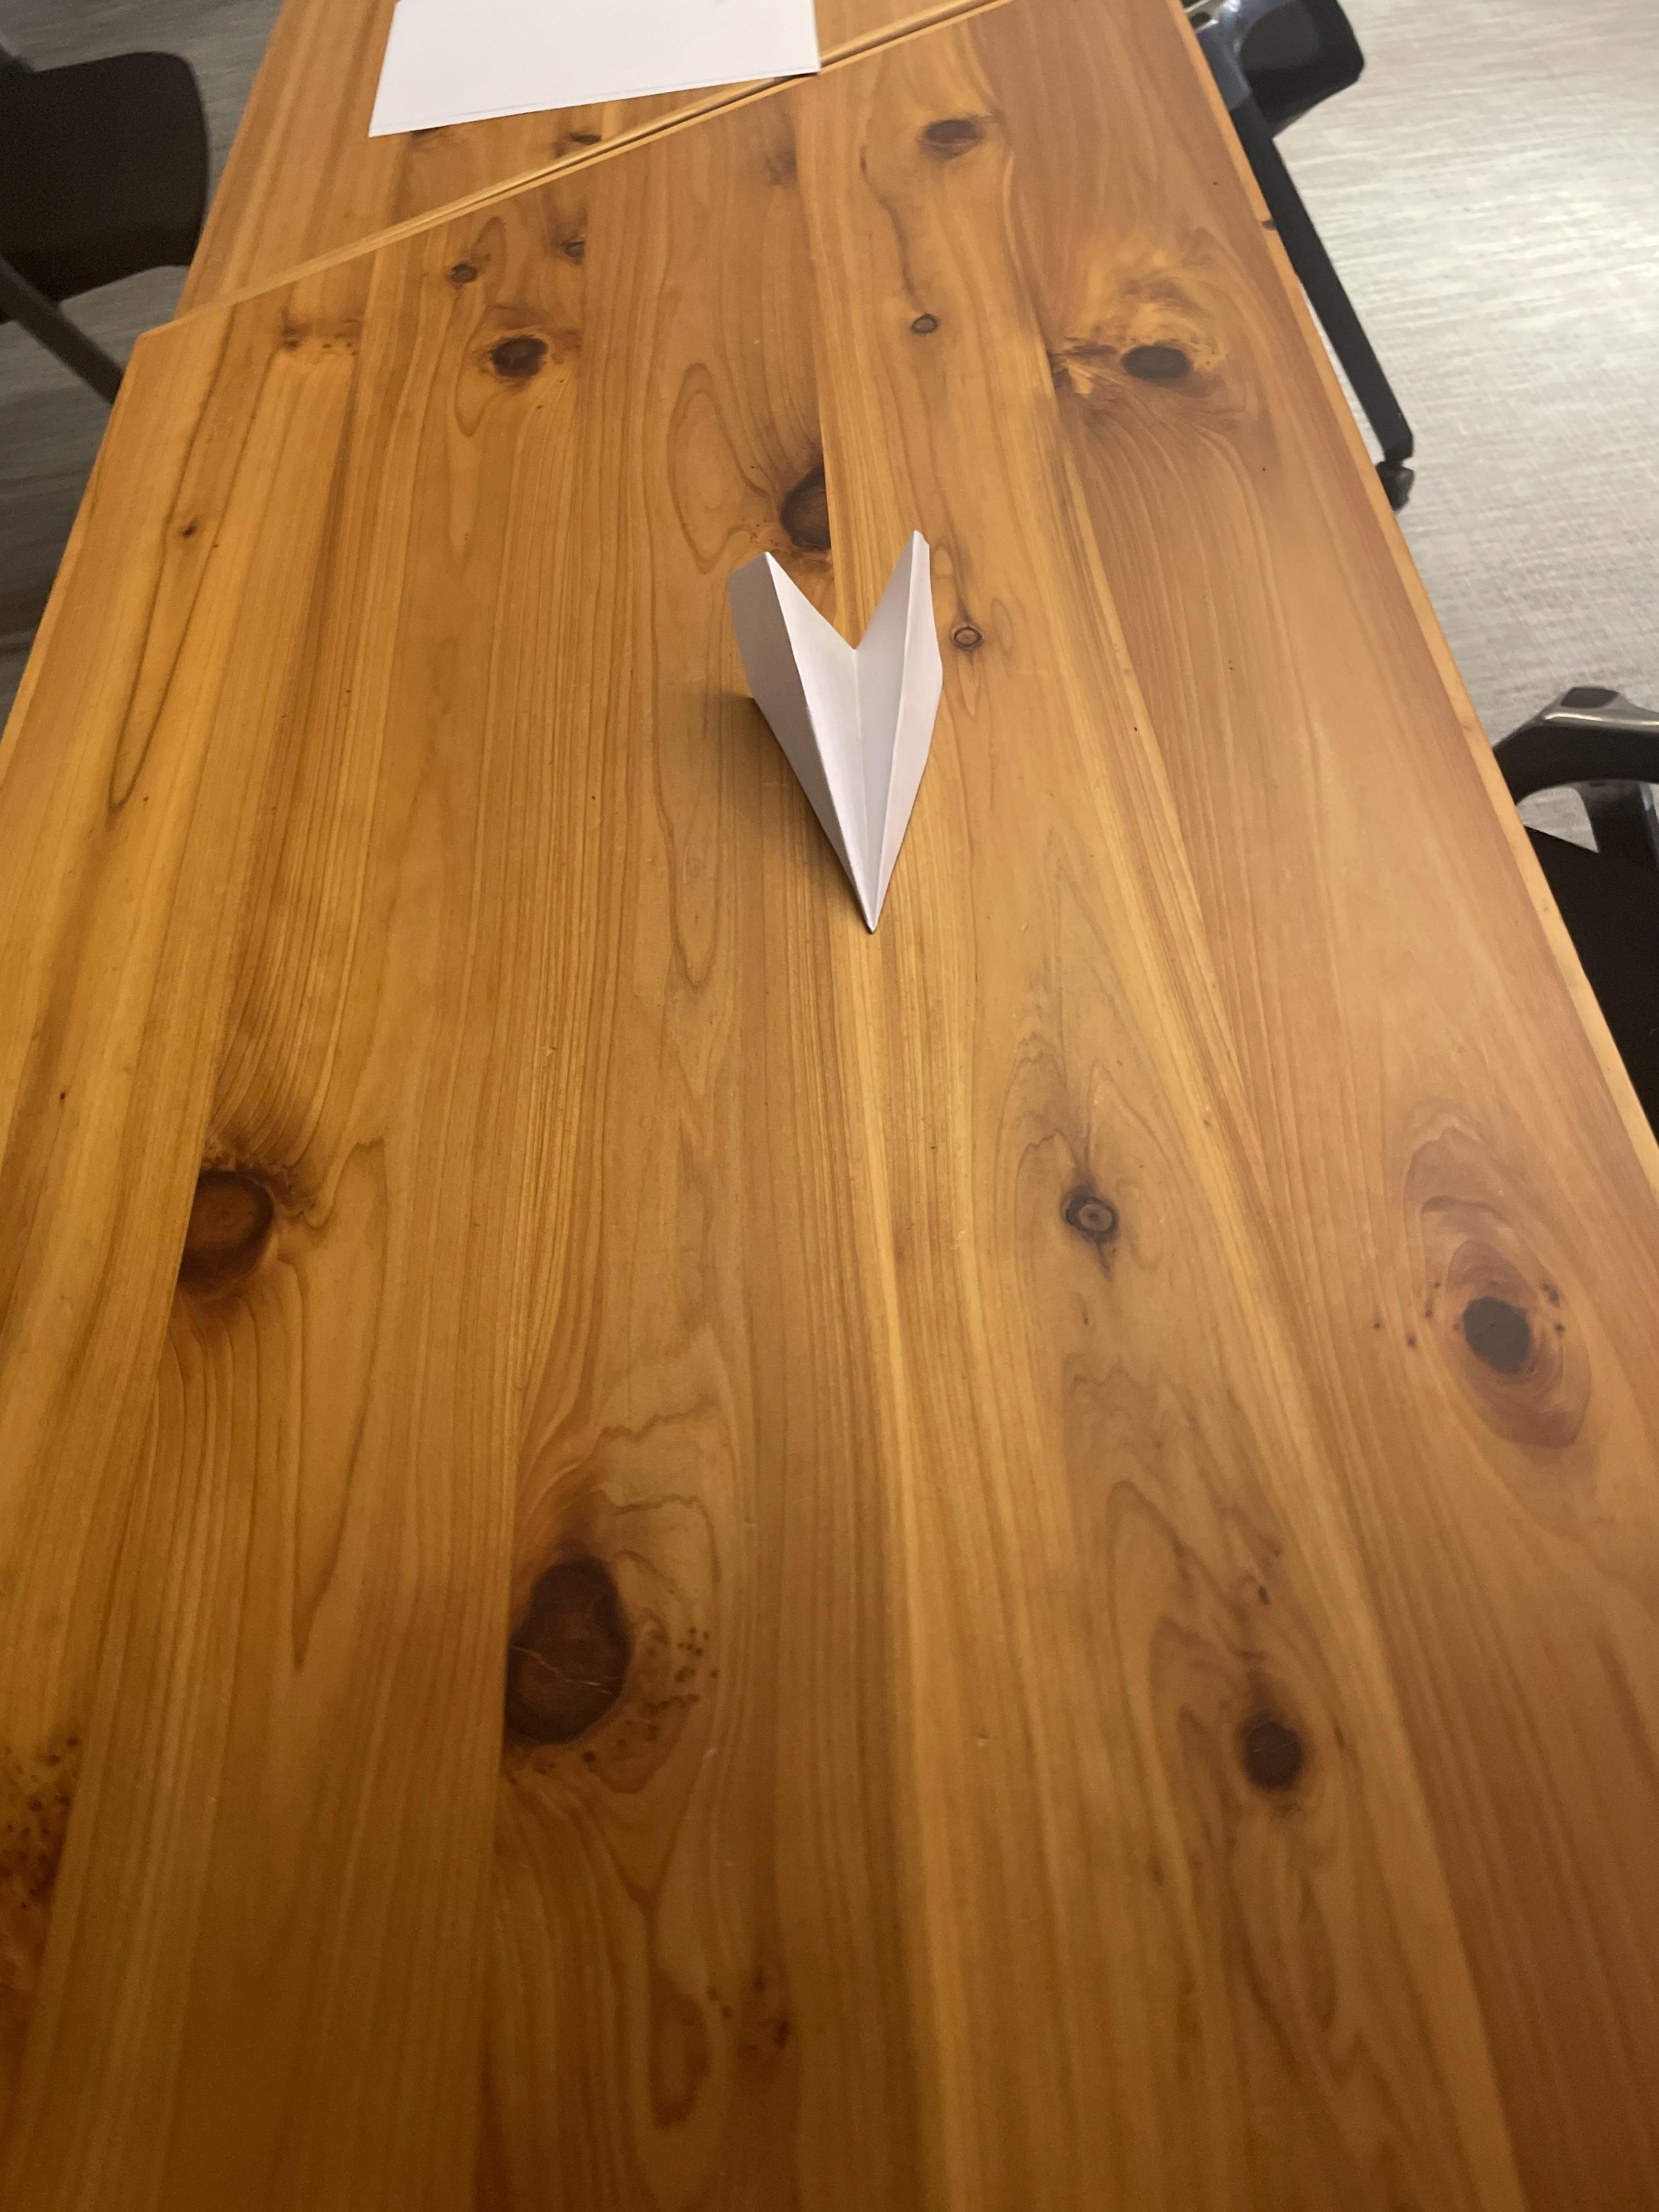shape_3: (674, 462, 1070, 1015)
